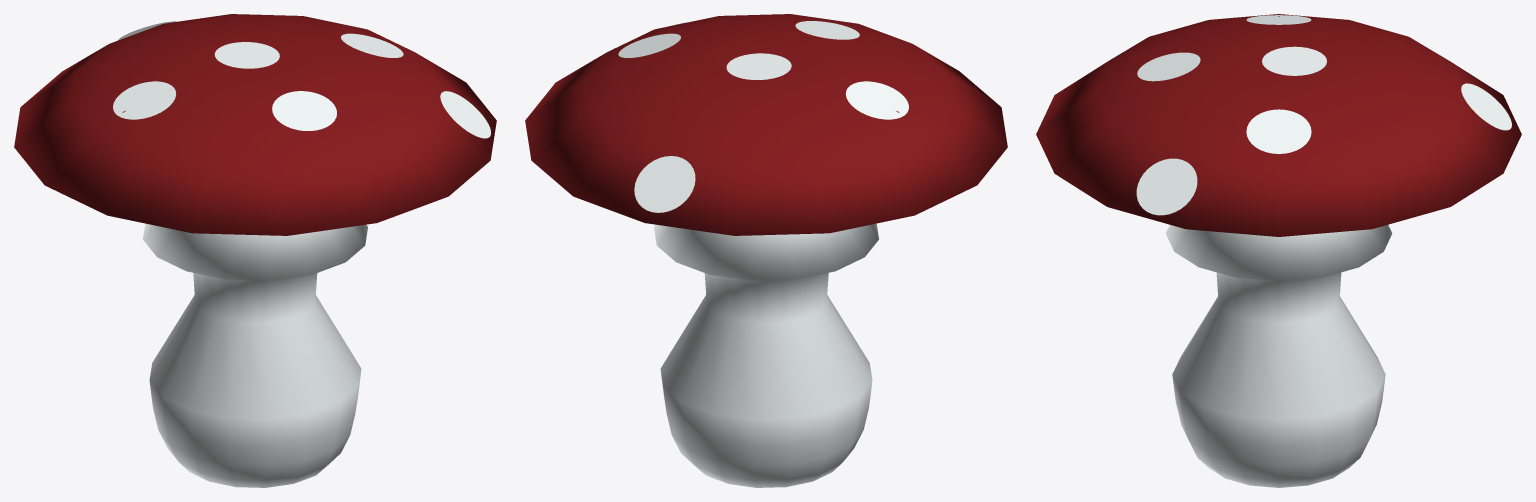
The model's file is Pilz.fbx.
The picture shows the model from 3 angles, left to right: view 1: azimuth 30°, elevation 25°; view 2: azimuth 150°, elevation 25°; view 3: azimuth 270°, elevation 25°; orthographic projection.
Visible parts, largest first — view 1: Pilz; view 2: Pilz; view 3: Pilz.
Part boxes in pixels (x1,y1,x2,y2): Pilz: (14, 14, 496, 487); Pilz: (525, 14, 1007, 487); Pilz: (1036, 14, 1521, 487).
Size of the model in its own units: 0.4542 by 0.4121 by 0.4542.
